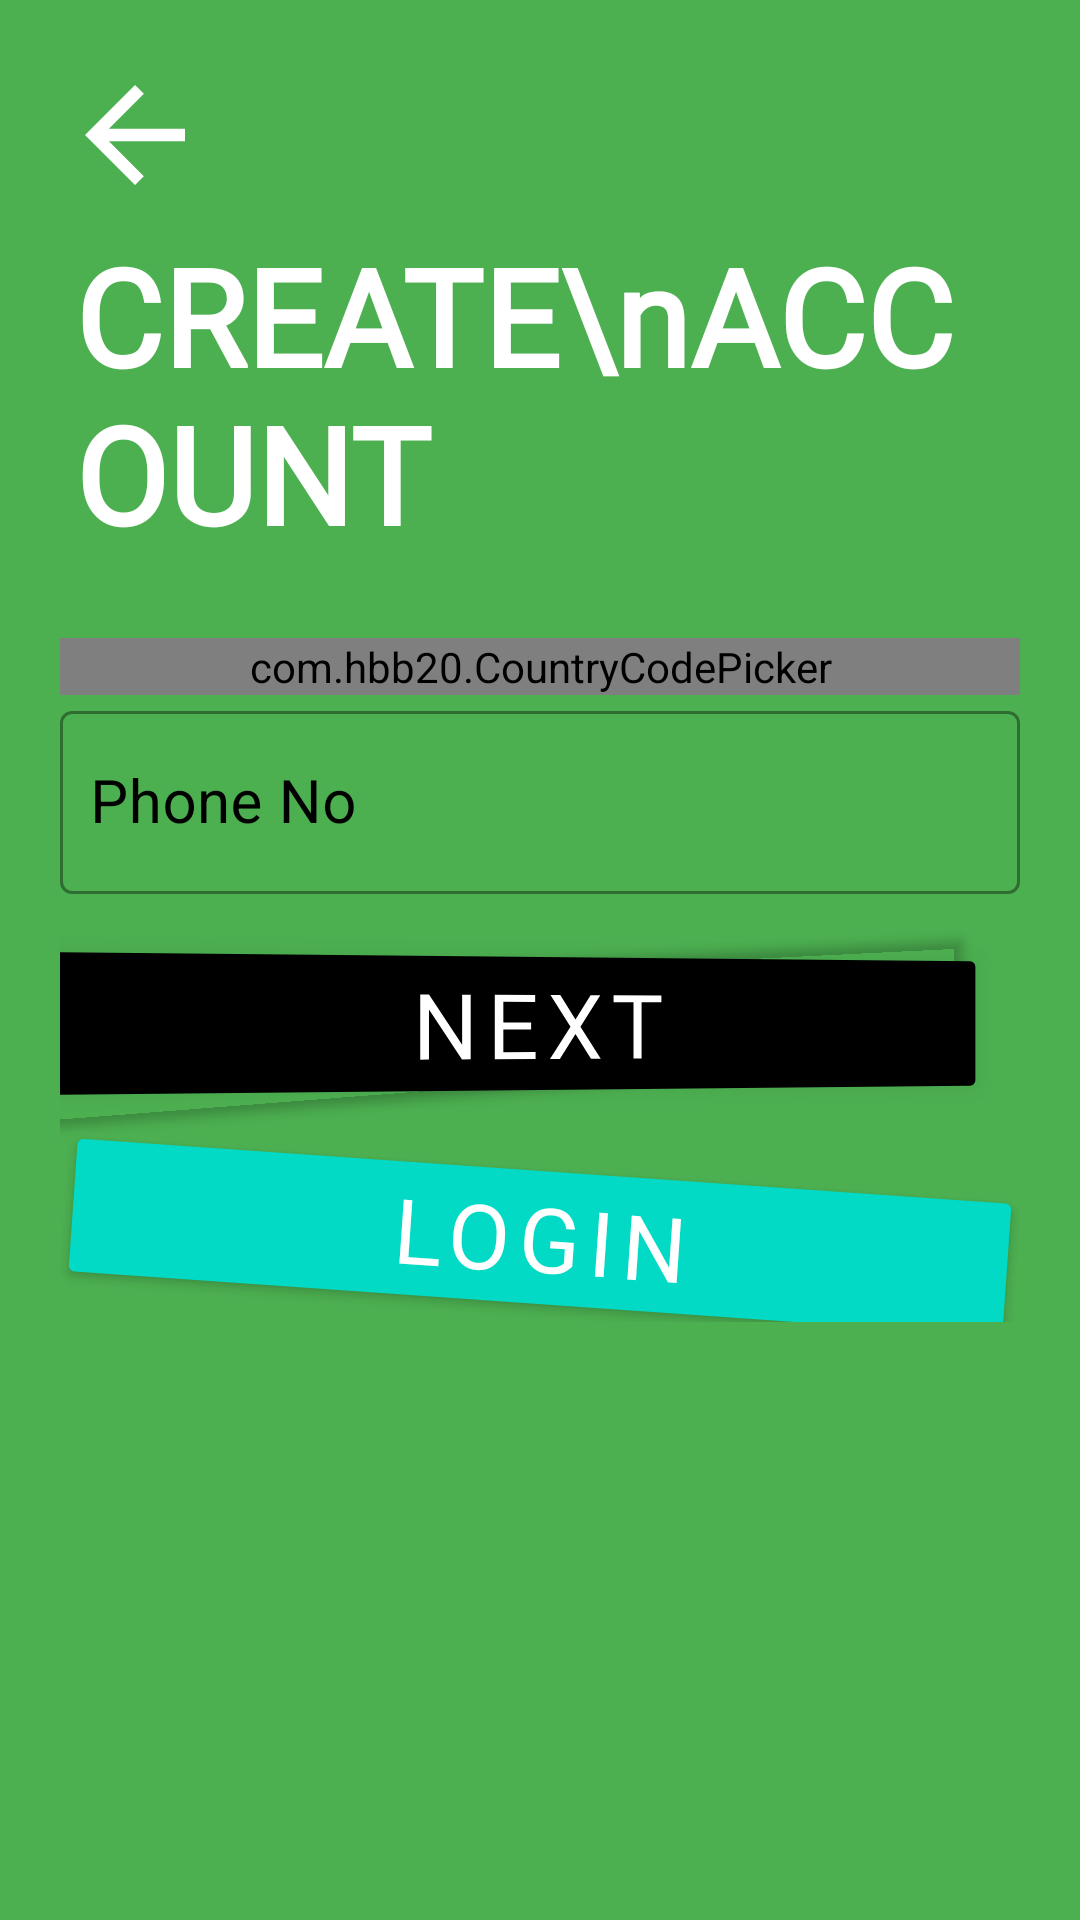

Named icons in this screenshot (1080 × 1920) and their centers, (x=x, y=y):
arrow back: (x=135, y=135)
